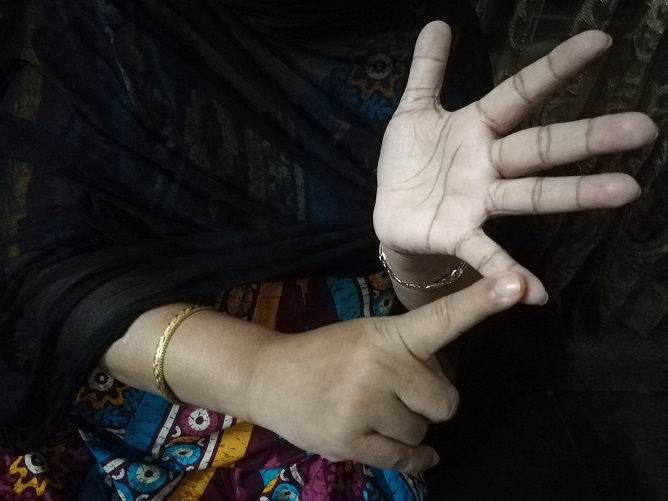i: (335, 22, 646, 411)
